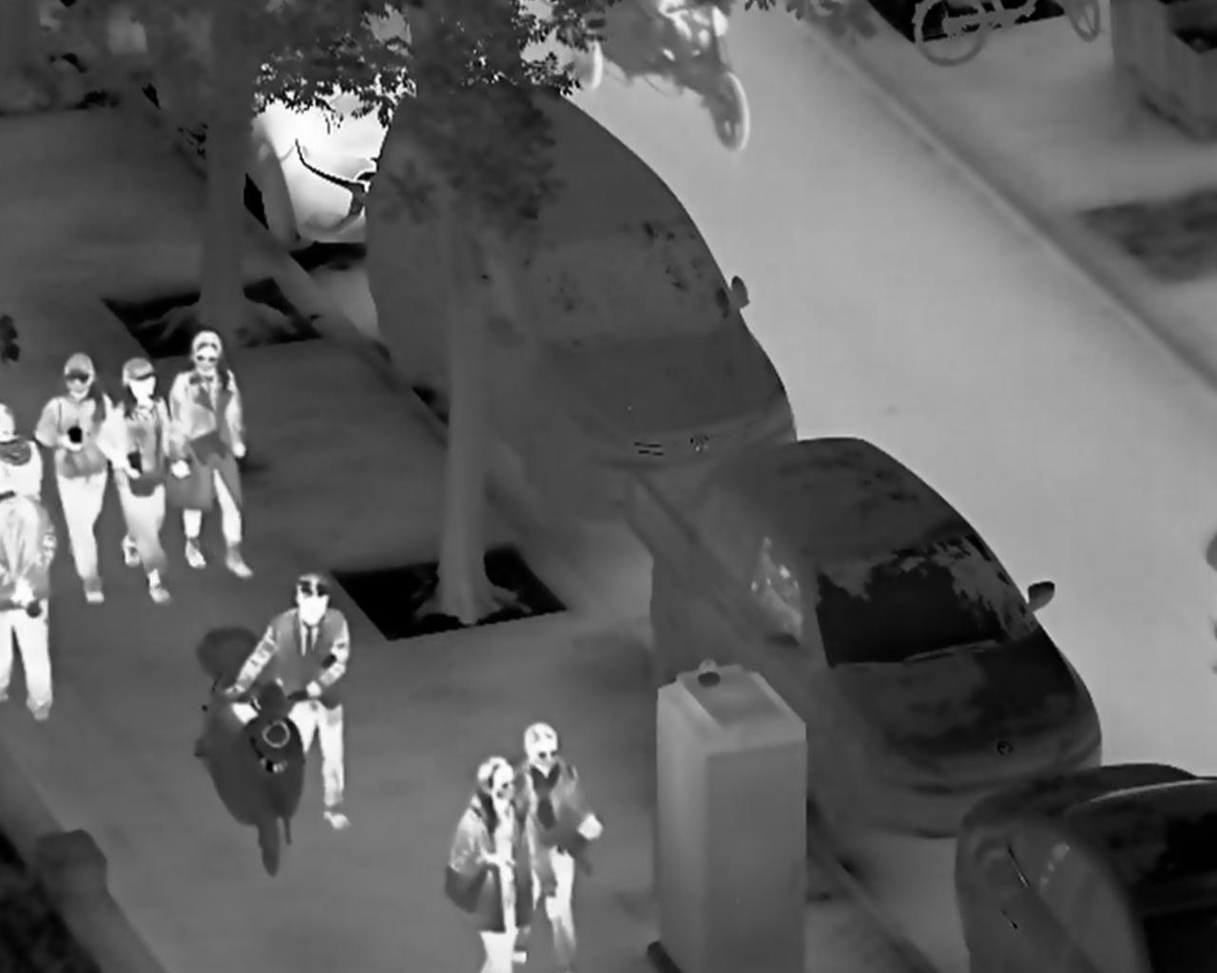person: (235, 571, 354, 835), (511, 719, 606, 973), (167, 329, 255, 580), (33, 349, 116, 607), (93, 355, 177, 607), (443, 755, 533, 973)
